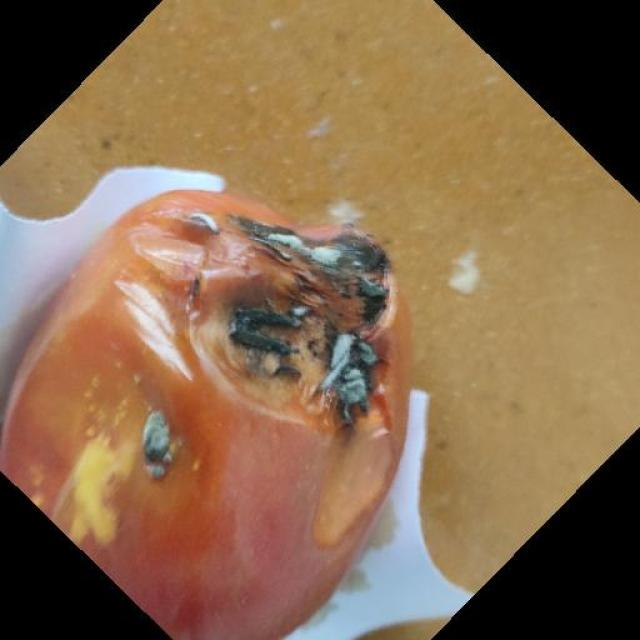Stale_tomato: (19, 161, 406, 640)
